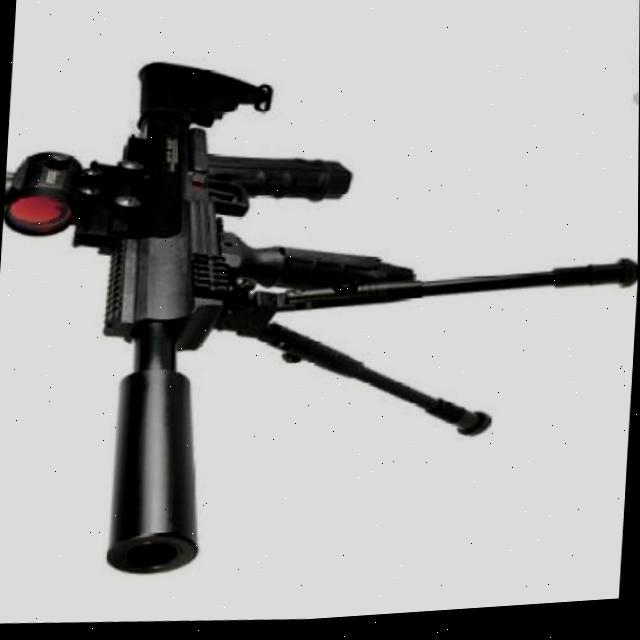gun: (78, 111, 396, 366)
